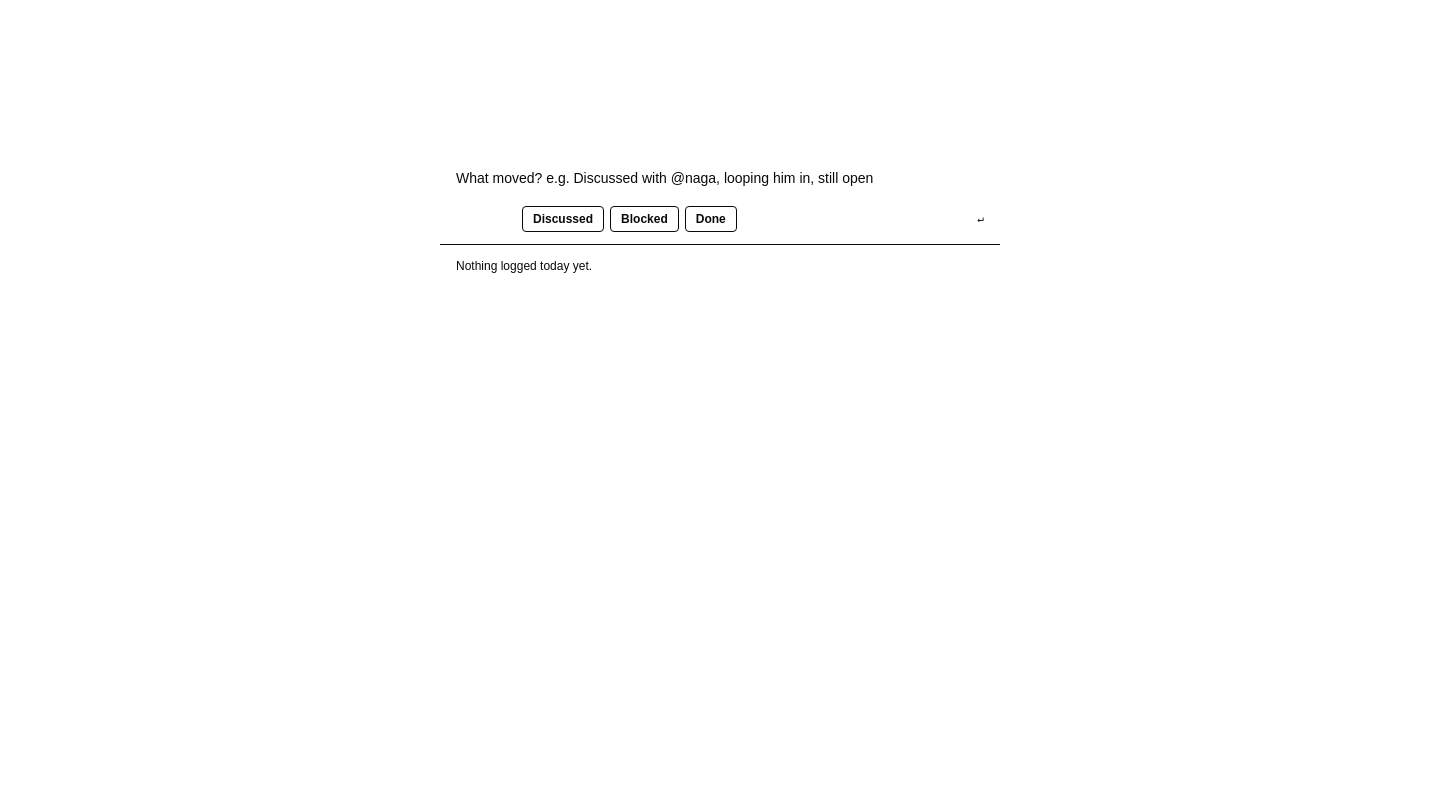
Scenario: LogProgressDialog › saves a line verbatim on Enter, clears the box and stays open
Replace the text in the field named "Progress line" with "Discussed ZCRM-1058212 with @naga, [thread](https://x.test/a), still open" at (720, 178), box [456,158,984,198]
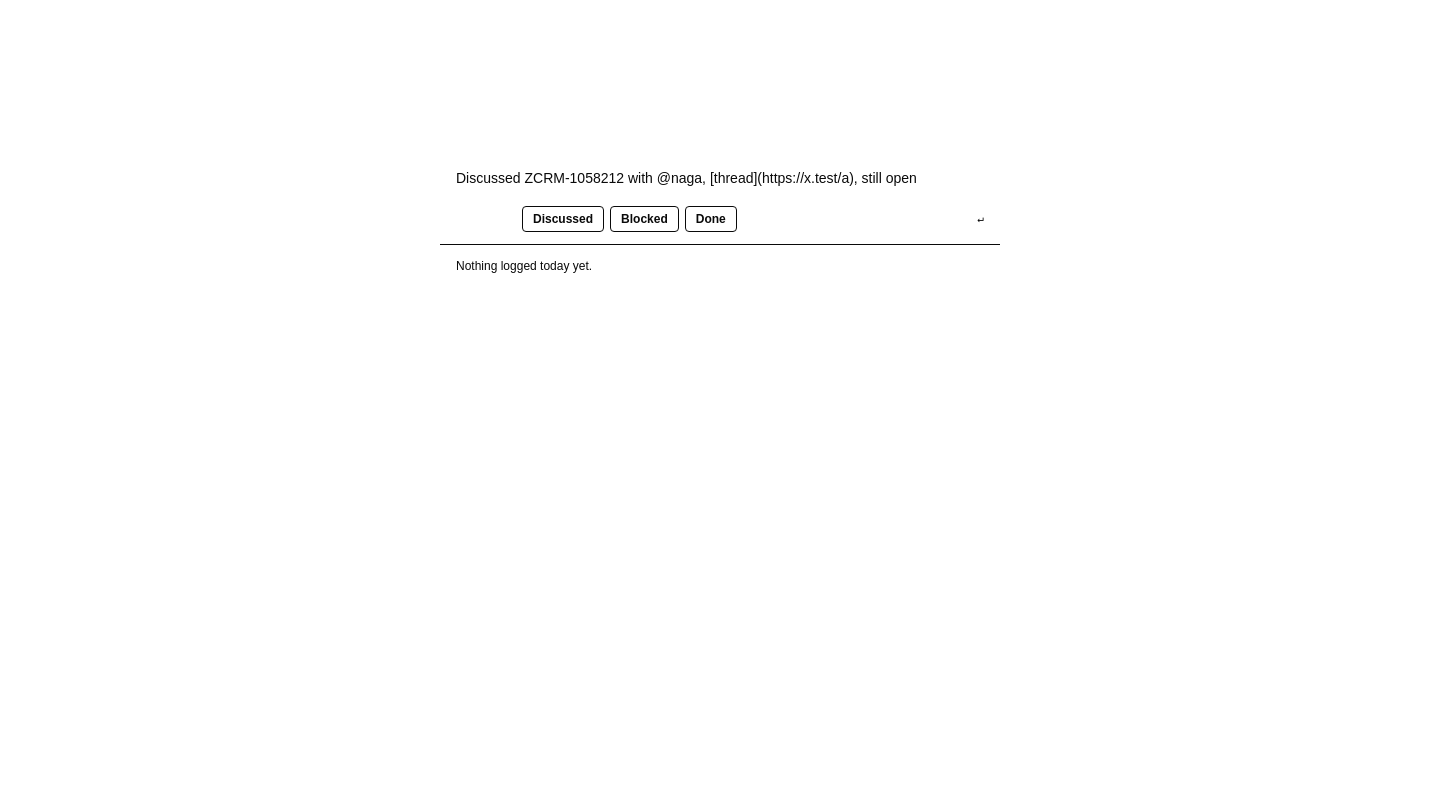
Press Enter in the field named "Progress line", box [456,158,984,198]
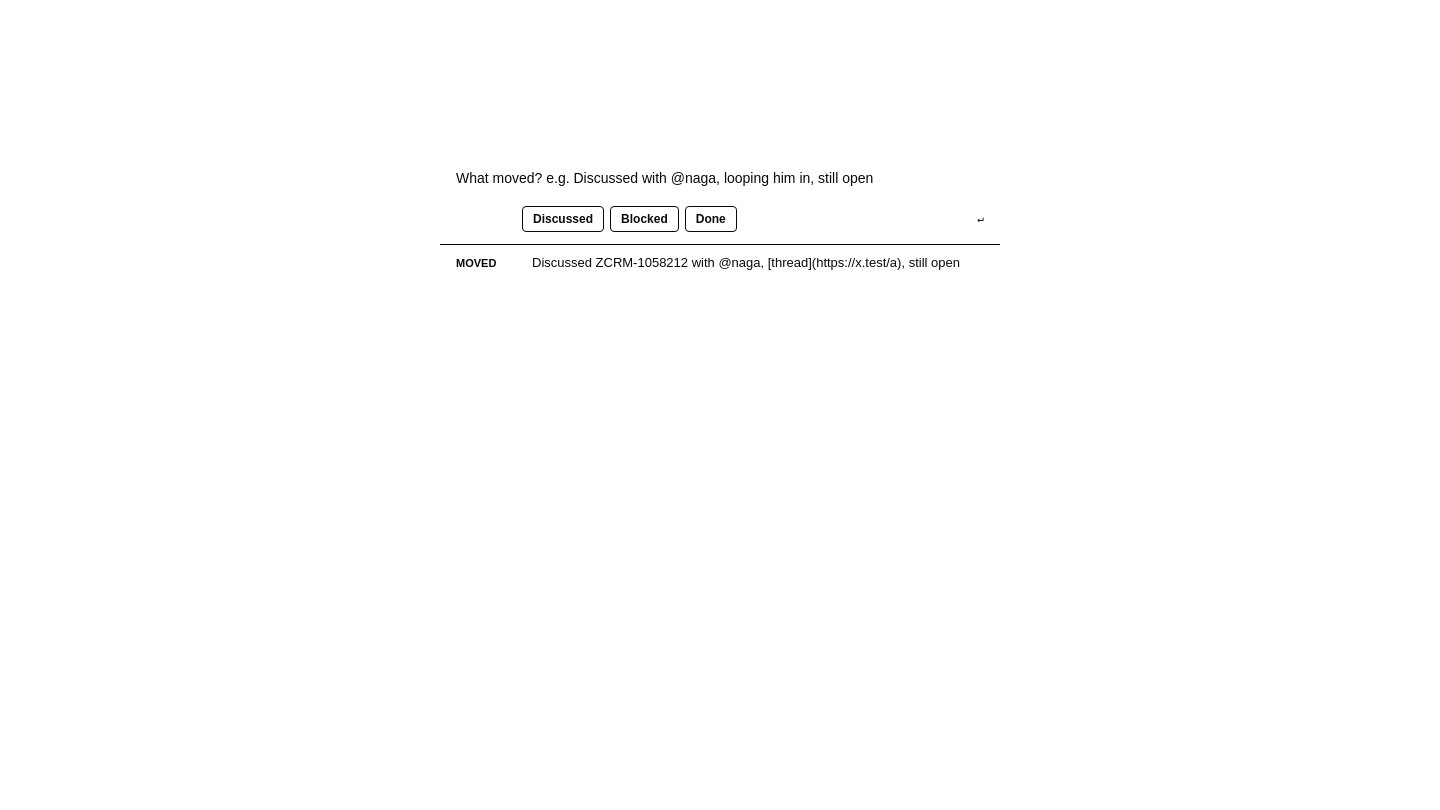
Now the field named "Progress line" is empty, box [456,158,984,198]
Now the text "Discussed ZCRM-1058212" is shown, box [532,255,960,270]
